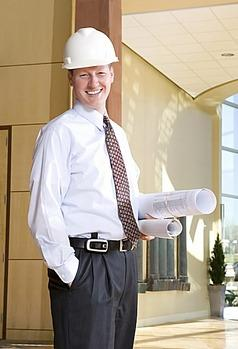helmet: (62, 28, 119, 73)
